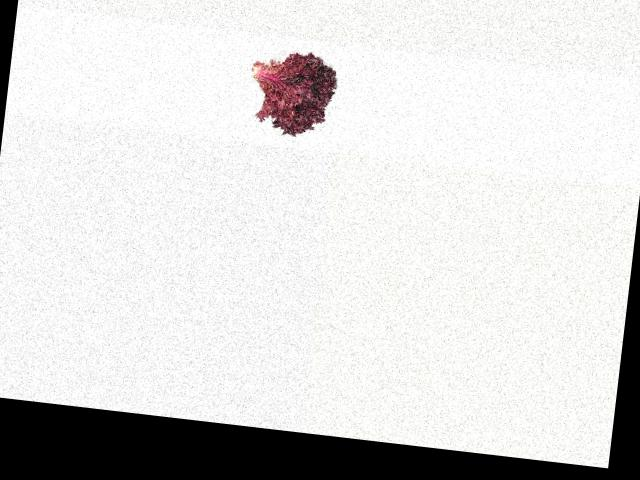lettuce: (235, 48, 344, 143)
